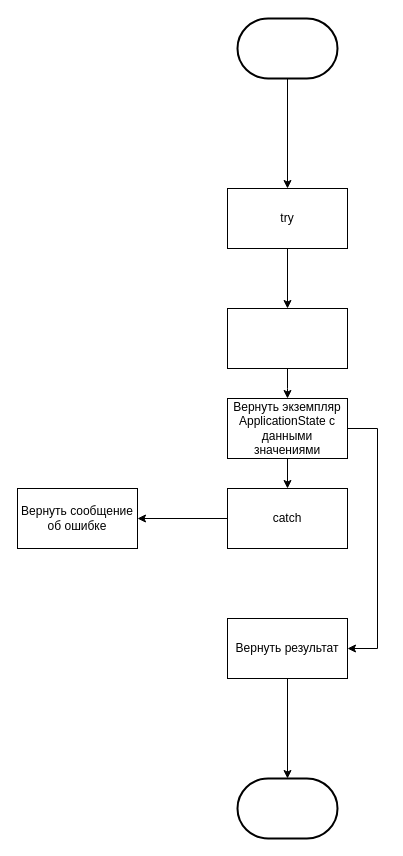
This 403x856 diagram has some shape labels left out. Here are the shapes that lost their labels. From the top down, the centre of each, then its label:
At pixel 287 48: "НАЧАЛО".
At pixel 287 338: "Получить из бд по предикату EmailStatus".
At pixel 287 808: "КОНЕЦ".
